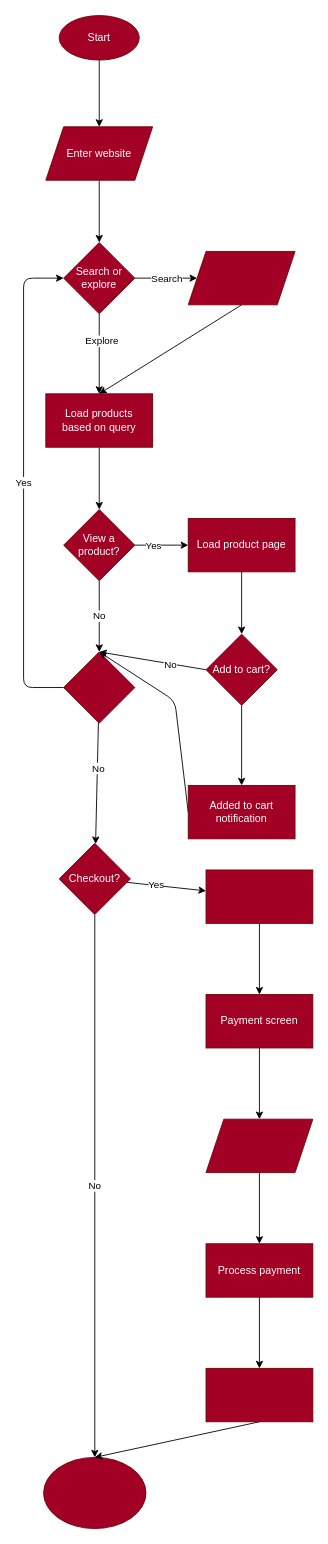
Image size: 328x1544. Some labels were removed from this diagram. The centre of each missing label's shape, as x and y in pixels:
"Continue shopping?" belongs at (99,687).
"End (leave website)" belongs at (94,1492).
"Input payment information" belongs at (259,1145).
"Provide input for search" belongs at (241,278).
"Send email and show order confirmation screen" belongs at (259,1394).
"View cart screen" belongs at (259,896).
